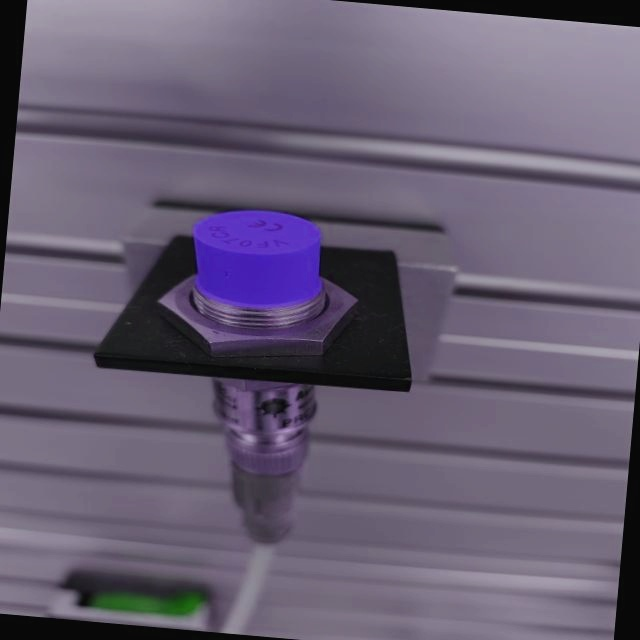inductive sensor: (68, 187, 475, 564)
